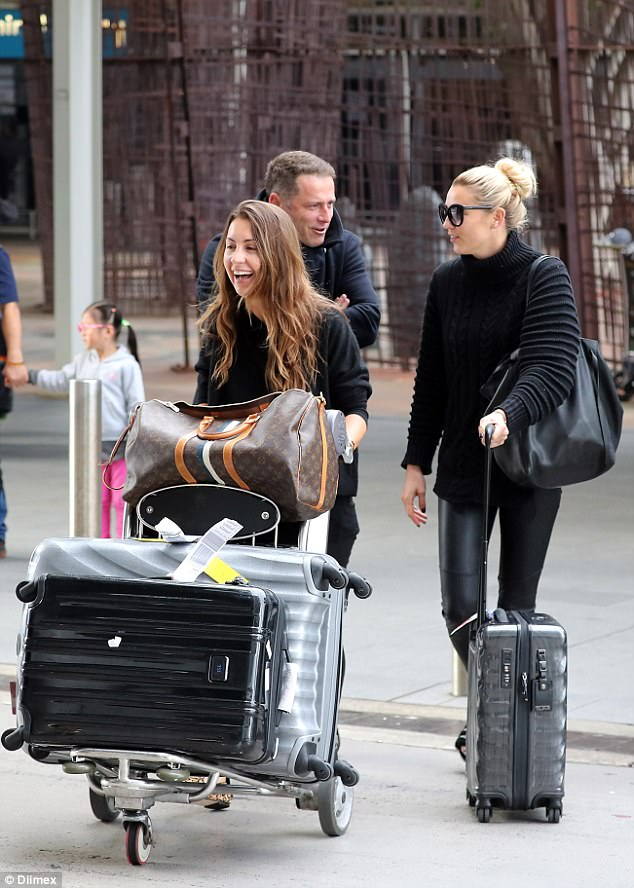Person: (402, 153, 582, 608), (195, 199, 361, 409), (264, 149, 364, 245), (32, 303, 144, 383)
